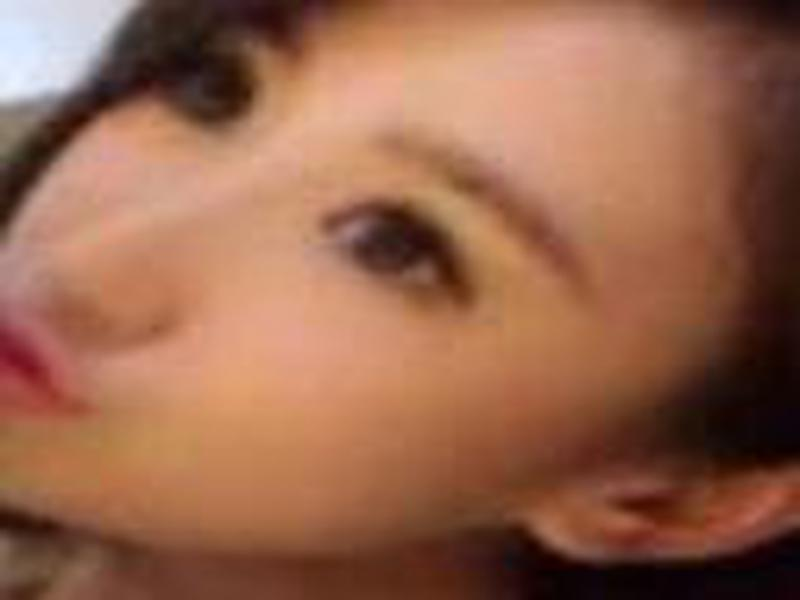without_mask: (6, 4, 749, 547)
